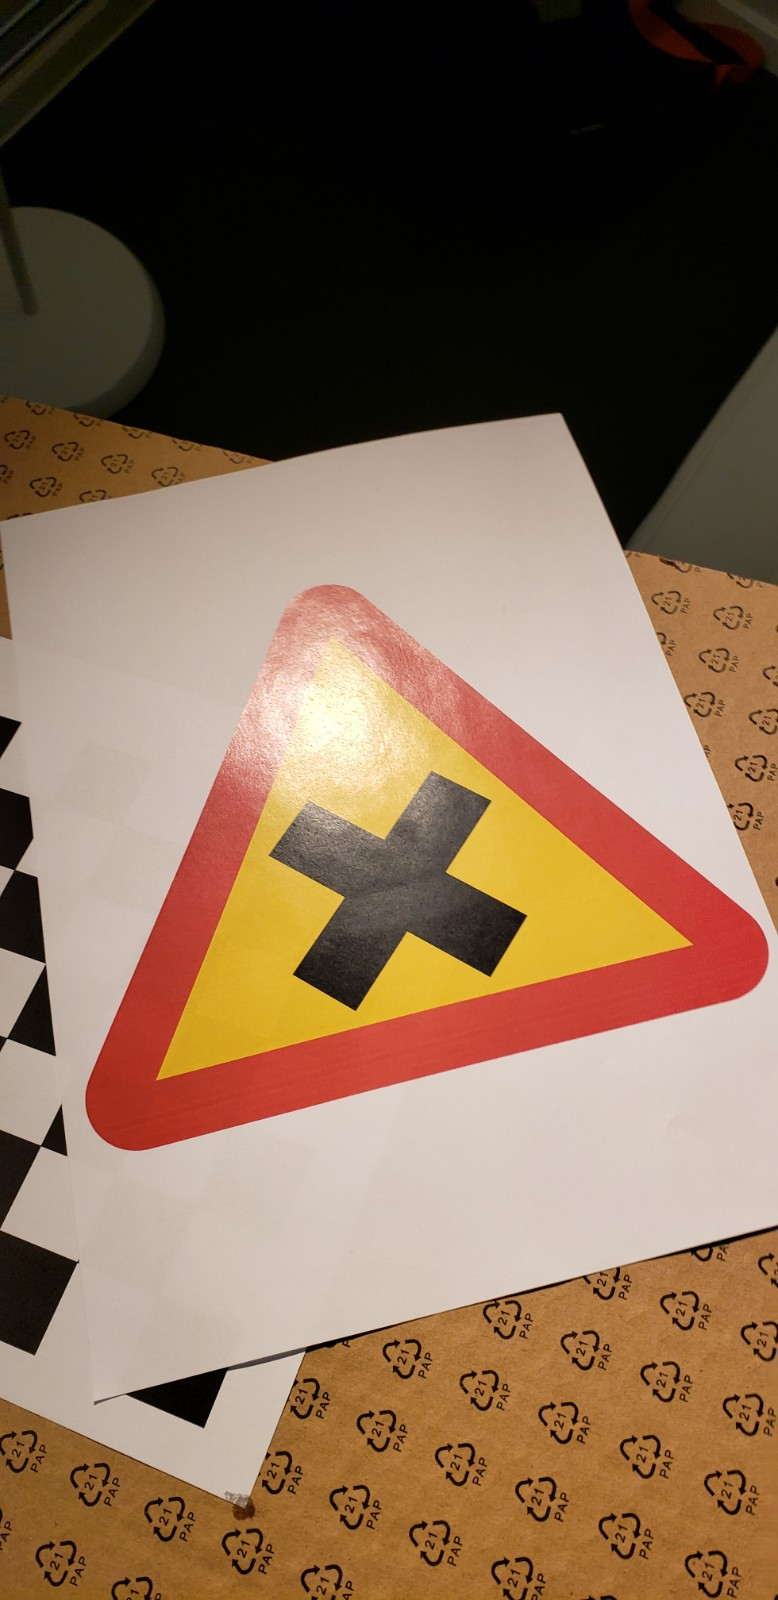junction: (40, 565, 767, 1148)
